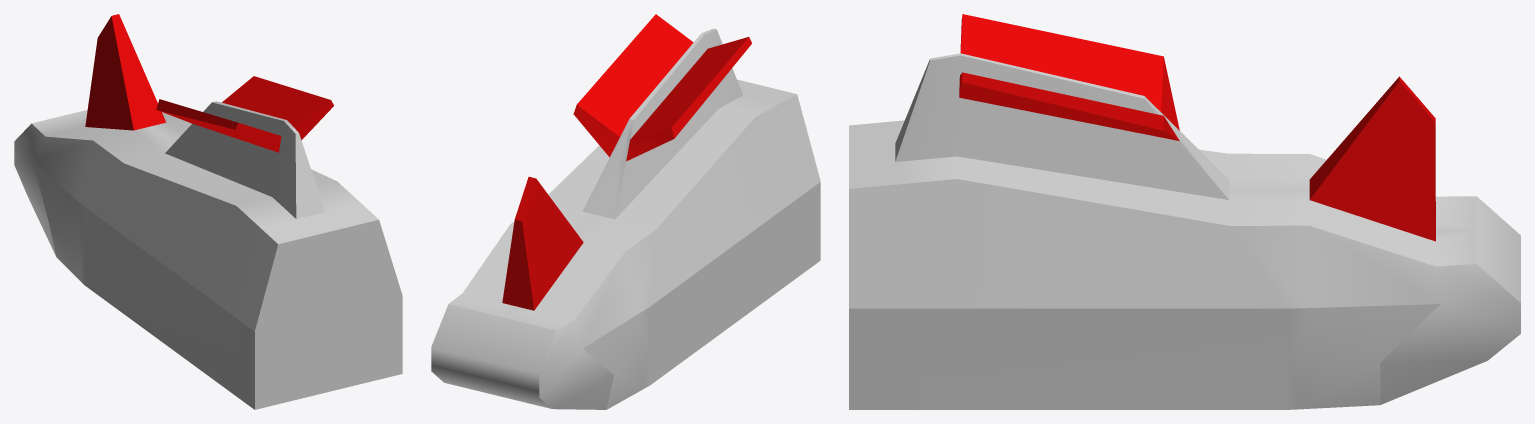
The model's file is CABIN.fbx.
3 renders of one model, left to right at view 1: azimuth 30°, elevation 25°; view 2: azimuth 150°, elevation 25°; view 3: azimuth 270°, elevation 25°, orthographic. The views are drawn at different scales.
Visible parts, largest first — view 1: polySurface20; view 2: polySurface20; view 3: polySurface20.
Boxes of the visible parts, box(x1,y1,x2,y2) form: polySurface20: box(14, 14, 402, 409); polySurface20: box(431, 14, 820, 409); polySurface20: box(849, 14, 1520, 409).
Bounding box in the file's own units: 205 × 330 × 627.
